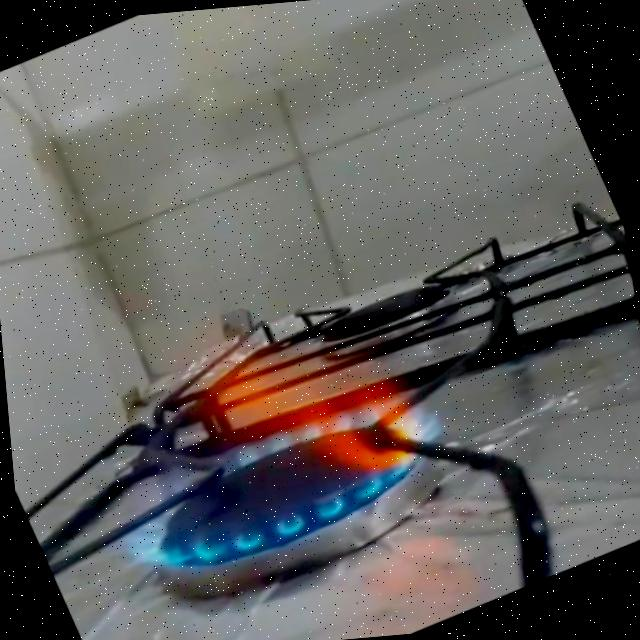fire: (28, 259, 485, 615)
